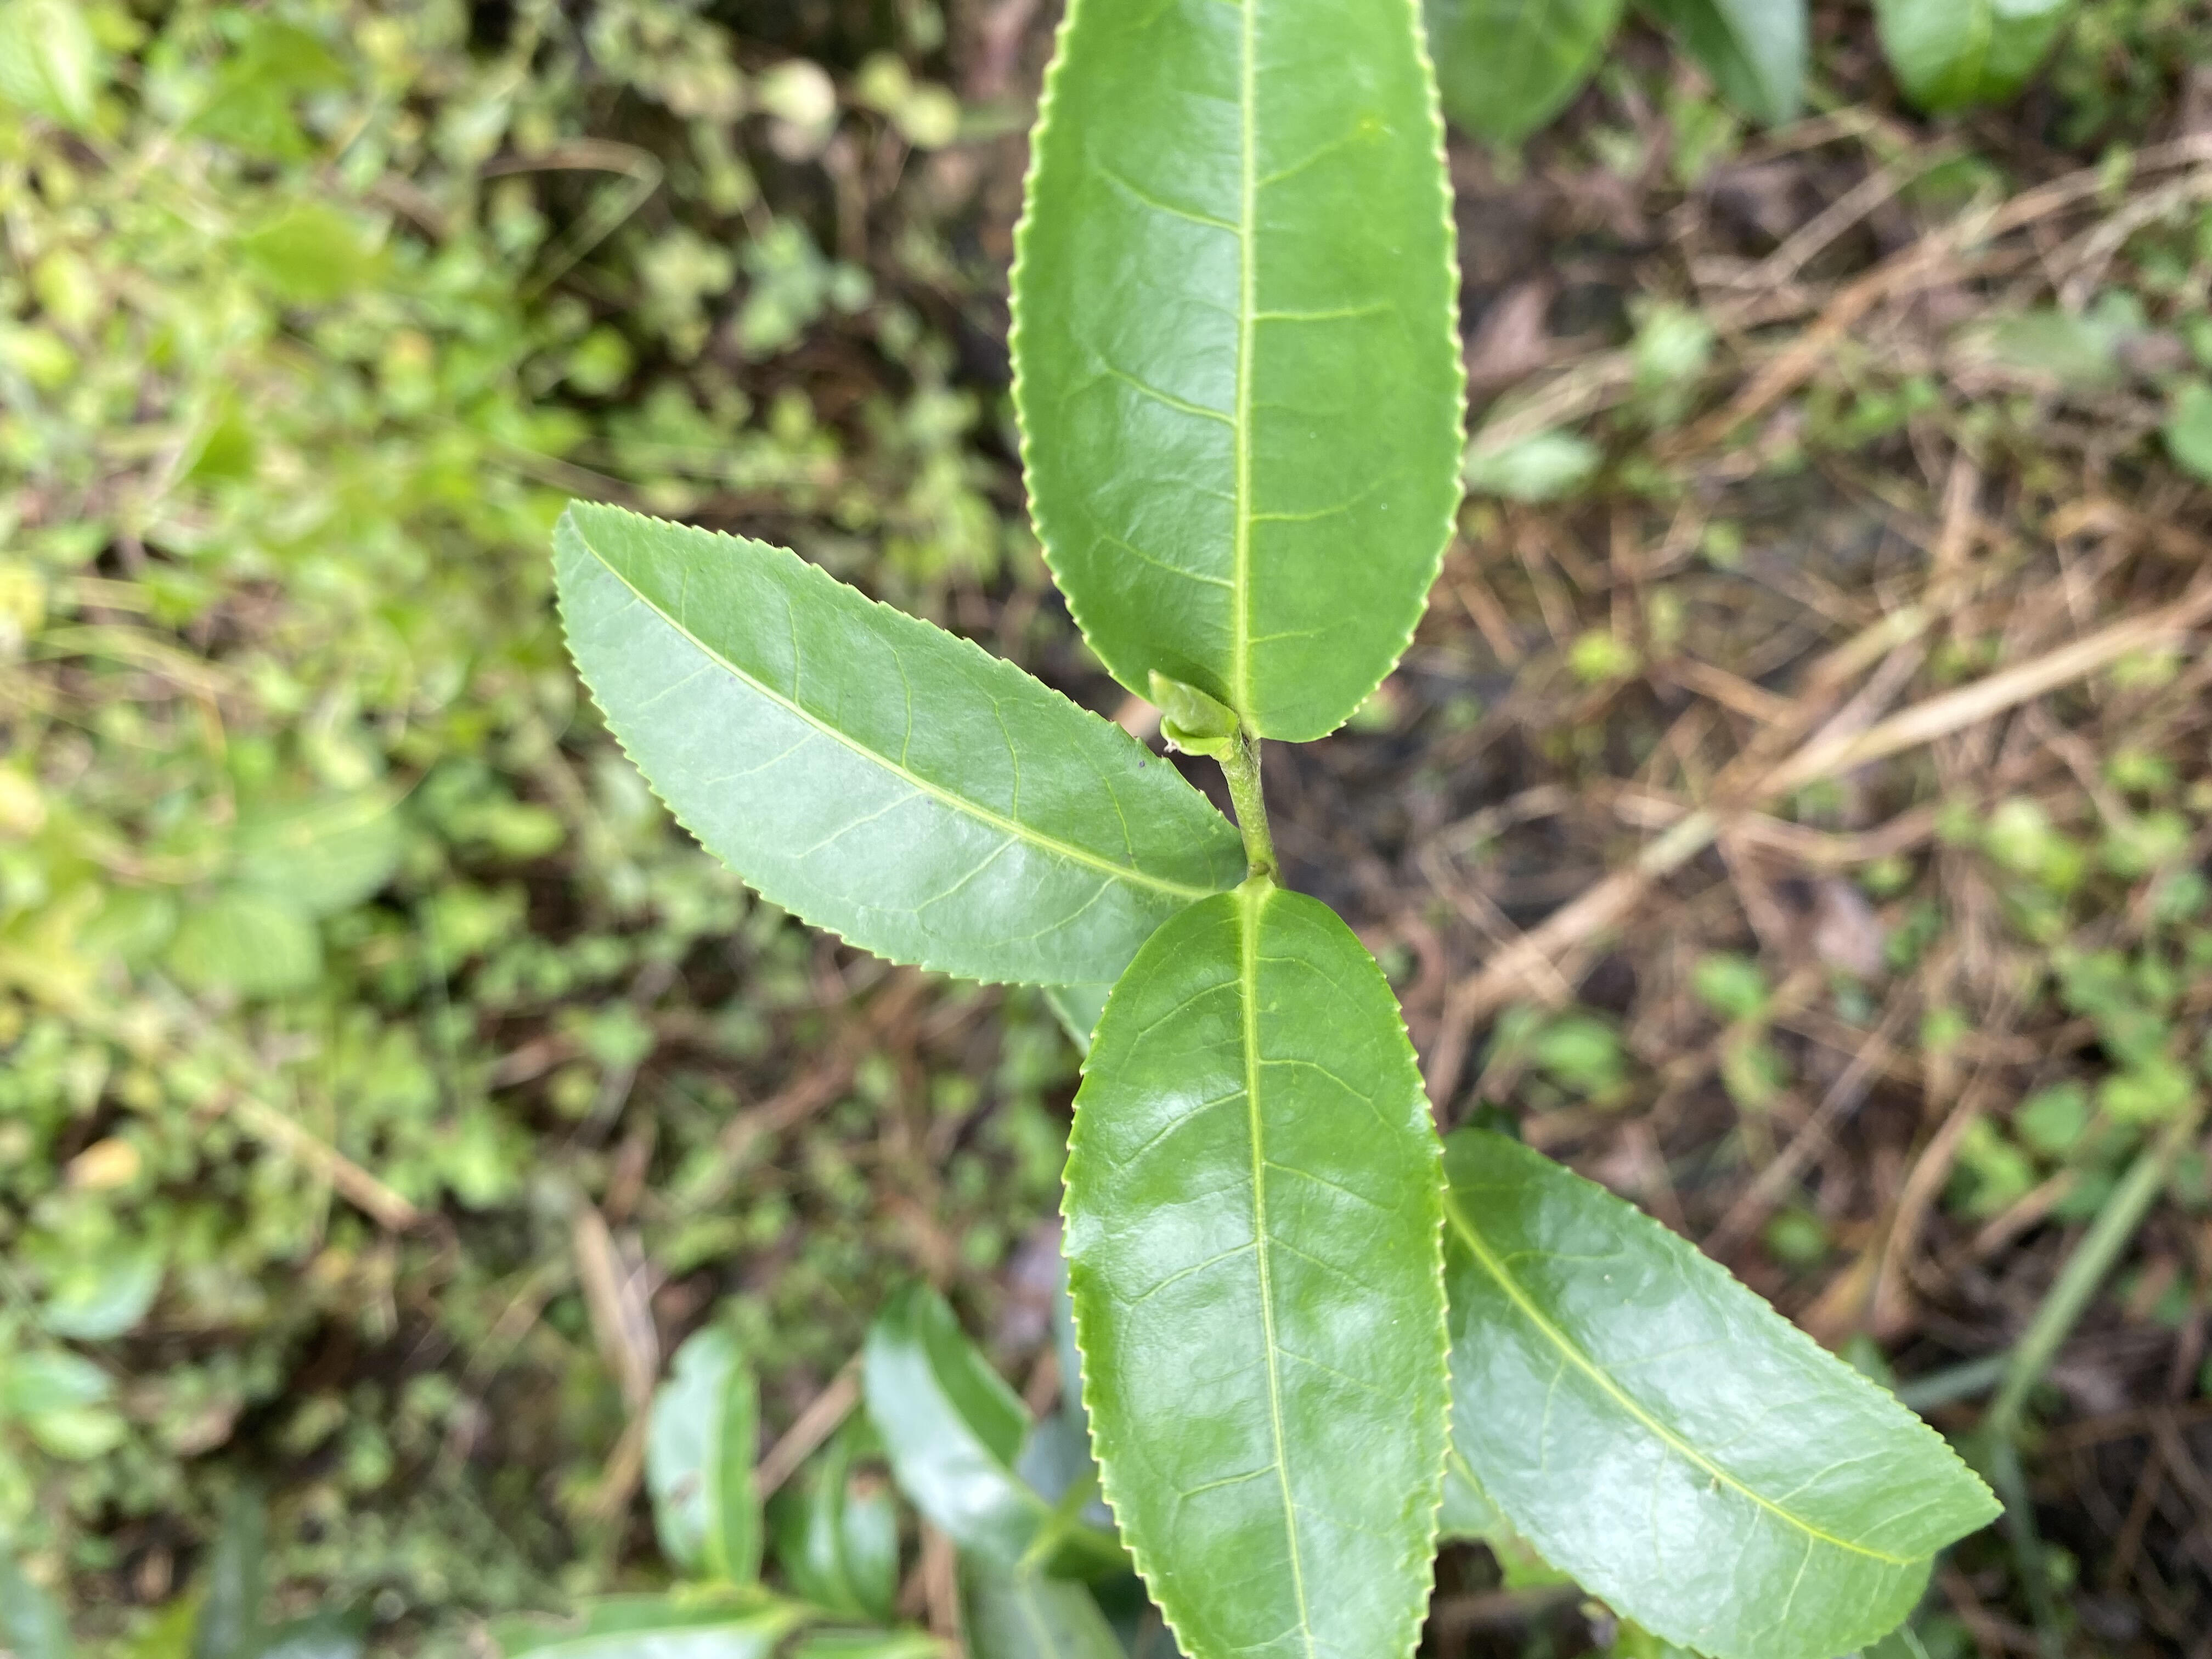healthy: (1005, 2, 1470, 748), (549, 497, 1240, 990), (1052, 884, 1460, 1657), (1451, 1124, 2006, 1659)
